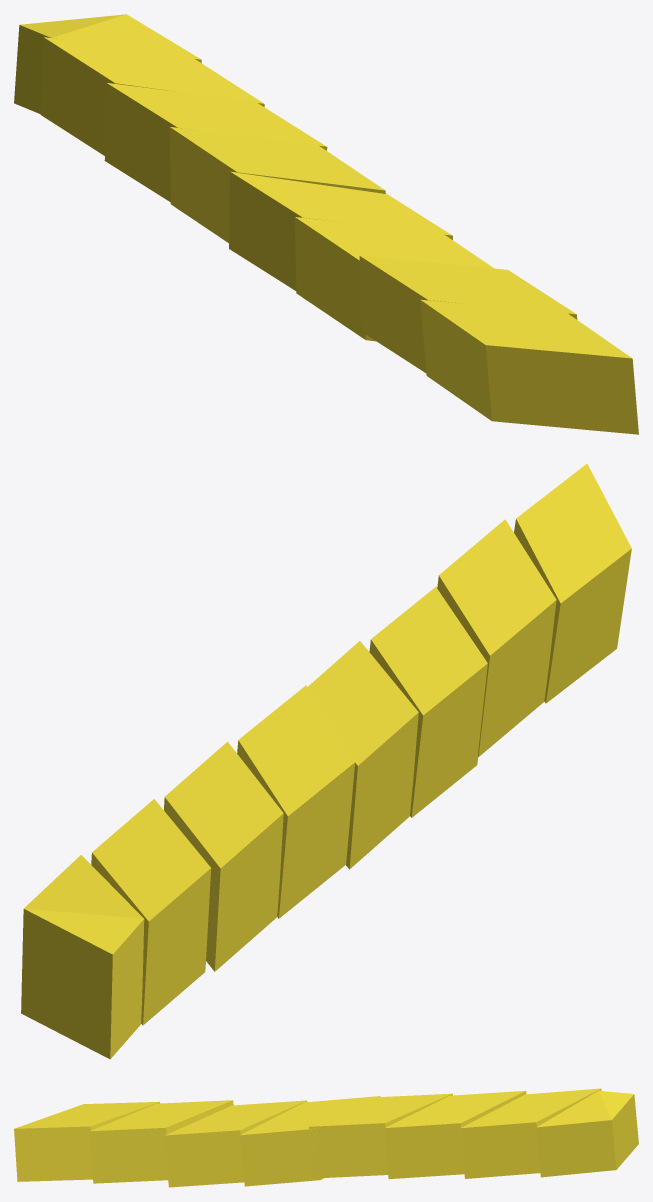
3 renders of one model, top to bottom at view 1: azimuth 30°, elevation 25°; view 2: azimuth 150°, elevation 25°; view 3: azimuth 270°, elevation 25°, orthographic. The views are drawn at different scales.
Size of the model in its own units: 0.1179 by 0.0842 by 0.7822.
